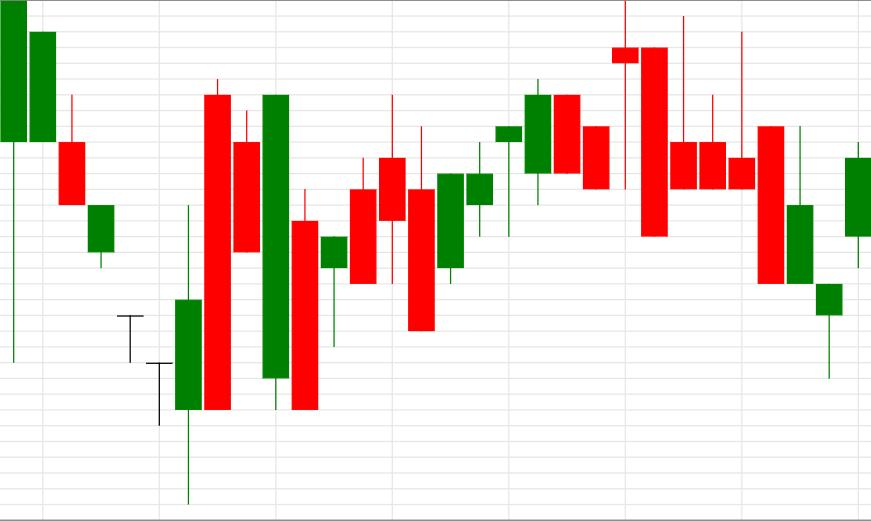hammer_rise: (612, 2, 842, 378)
